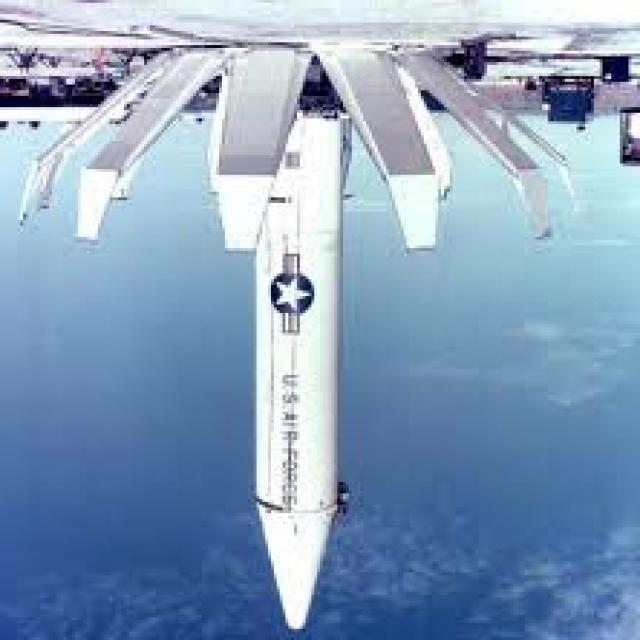Missile: (248, 111, 344, 638)
